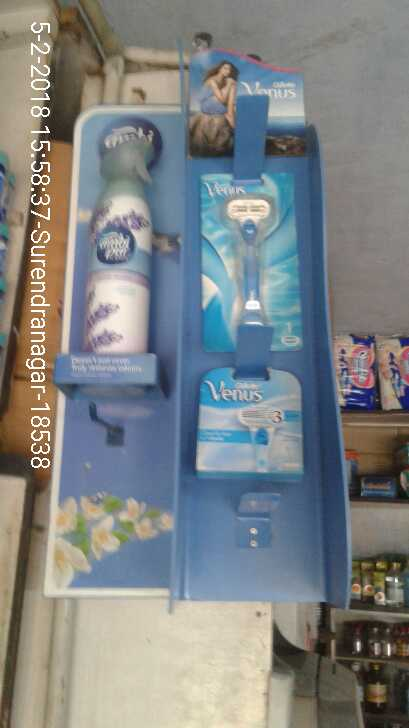beauty: (200, 162, 299, 346), (194, 357, 313, 480)
home: (77, 134, 151, 361)
